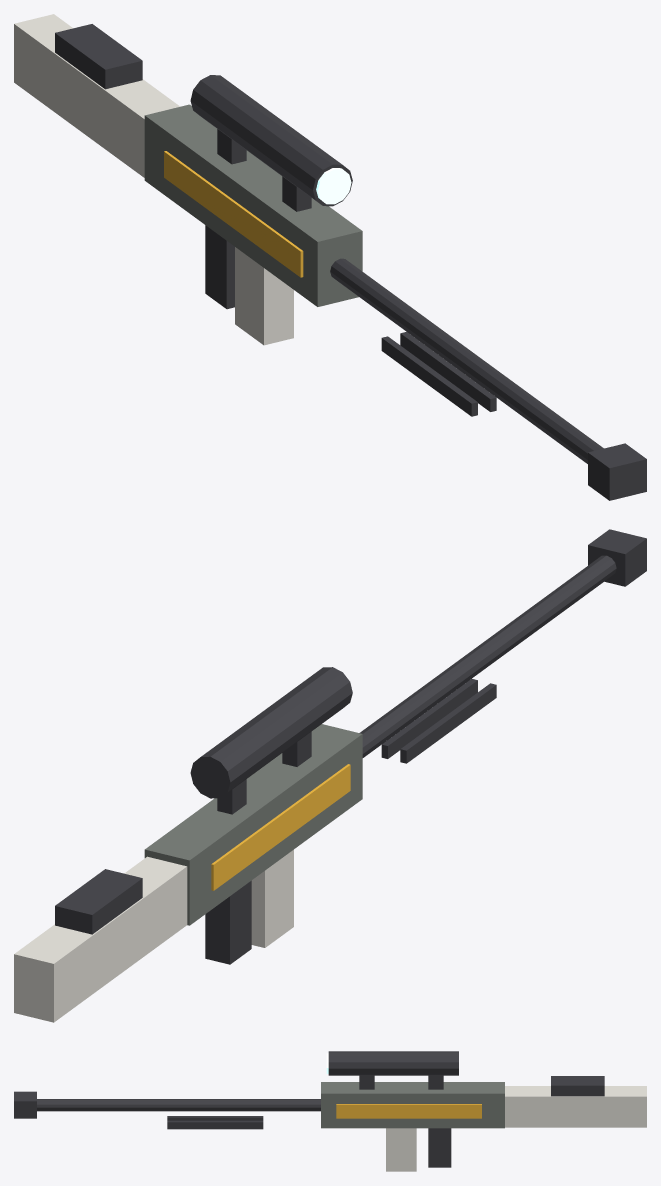
The model's file is weapon_F1_Sniper.glb.
3 views of the same model, one above another, from view 1: azimuth 30°, elevation 25°; view 2: azimuth 150°, elevation 25°; view 3: azimuth 270°, elevation 25° (orthographic). The views are drawn at different scales.
Parts seen in each view (by area): view 1: Body, Mag; view 2: Body, Mag; view 3: Body, Mag.
Part boxes in pixels (box(x1,y1,x2,y2)): Body: box(14, 14, 646, 500); Mag: box(235, 247, 293, 345); Body: box(14, 529, 646, 1022); Mag: box(251, 849, 293, 947); Body: box(14, 1051, 646, 1167); Mag: box(386, 1128, 416, 1171).
Size of the model in its own units: 0.08 by 0.332 by 1.65.
